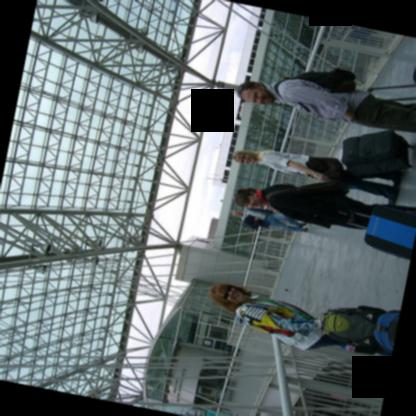backpack: (322, 303, 388, 354), (283, 67, 355, 92)
handbag: (263, 178, 352, 206), (314, 156, 344, 177)
suitcase: (342, 130, 413, 175), (365, 203, 416, 264), (371, 308, 400, 354)
